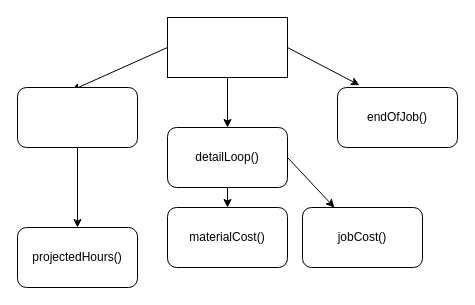
Some shapes in this 475 by 305 pixel diagram are drawn without their labels. The box of each missing label's shape, as (x1, y1, x2, y2) in pixels:
housekeeping(): (16, 86, 138, 148)
Main: (166, 16, 288, 78)
